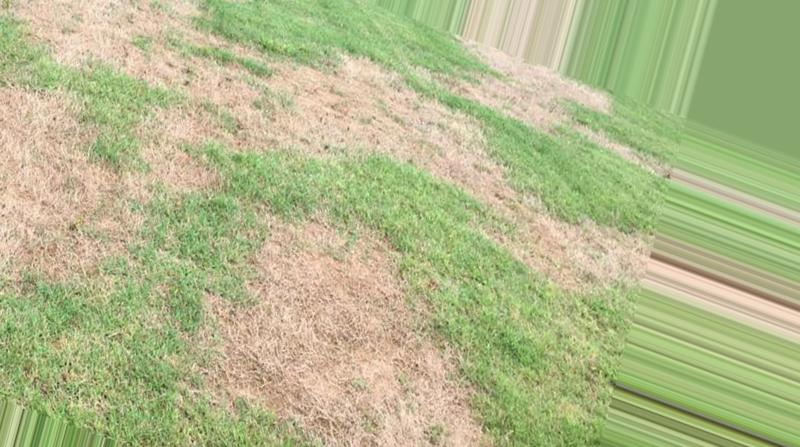patch: (272, 267, 406, 416), (12, 119, 100, 217), (195, 319, 257, 396), (289, 93, 383, 137), (443, 119, 487, 181), (142, 152, 190, 196)
